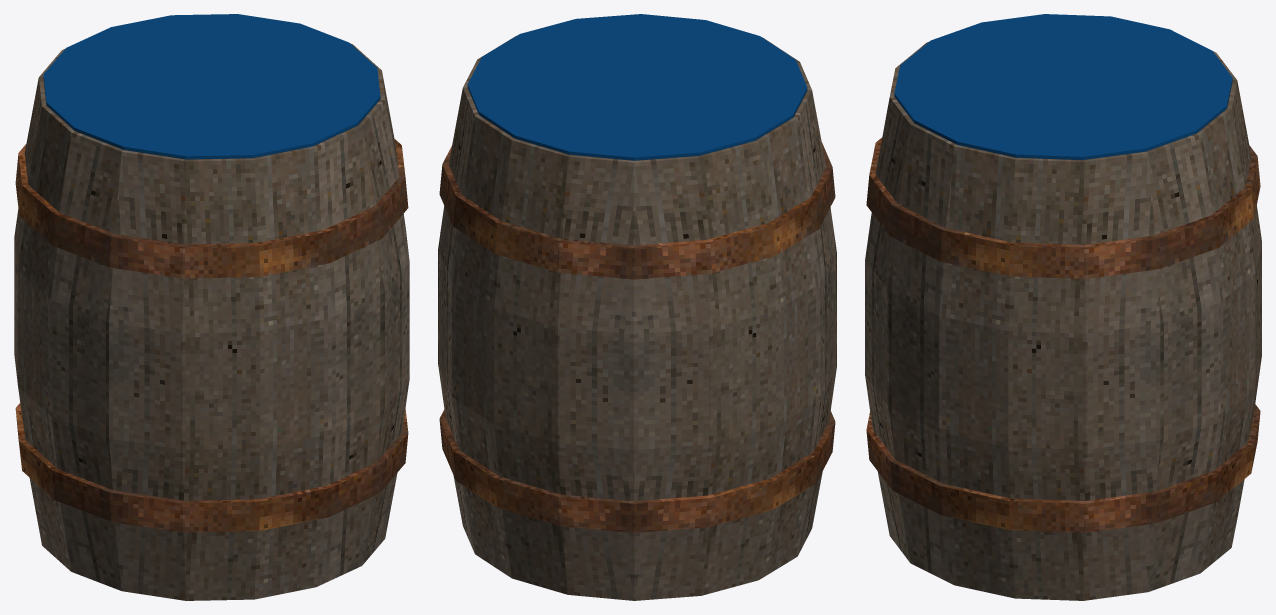
The model's file is GD 3D Barrel 1 Blue Top.fbx.
3 renders of one model, left to right at view 1: azimuth 30°, elevation 25°; view 2: azimuth 150°, elevation 25°; view 3: azimuth 270°, elevation 25°, orthographic.
Parts seen in each view (by area): view 1: Barrel 1 IVG 3D; view 2: Barrel 1 IVG 3D; view 3: Barrel 1 IVG 3D.
Boxes of the visible parts, box(x1,y1,x2,y2) form: Barrel 1 IVG 3D: box(14, 14, 409, 600); Barrel 1 IVG 3D: box(438, 14, 836, 600); Barrel 1 IVG 3D: box(865, 14, 1261, 600).
Size of the model in its own units: 84.57 by 104 by 84.57.
